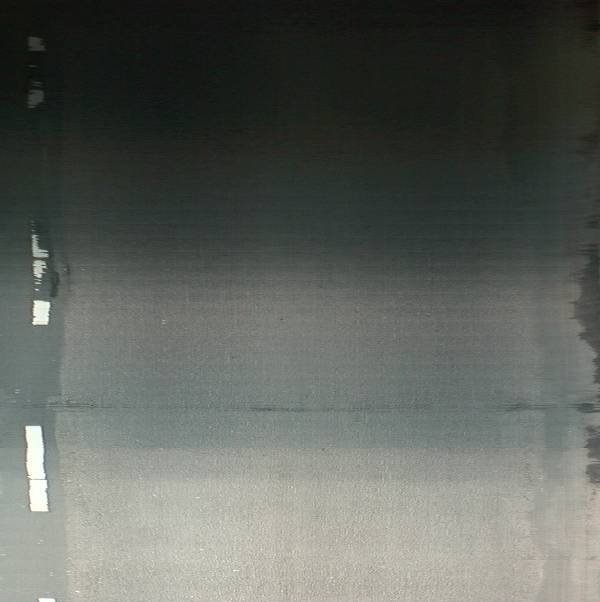road_damage: (50, 397, 562, 415)
